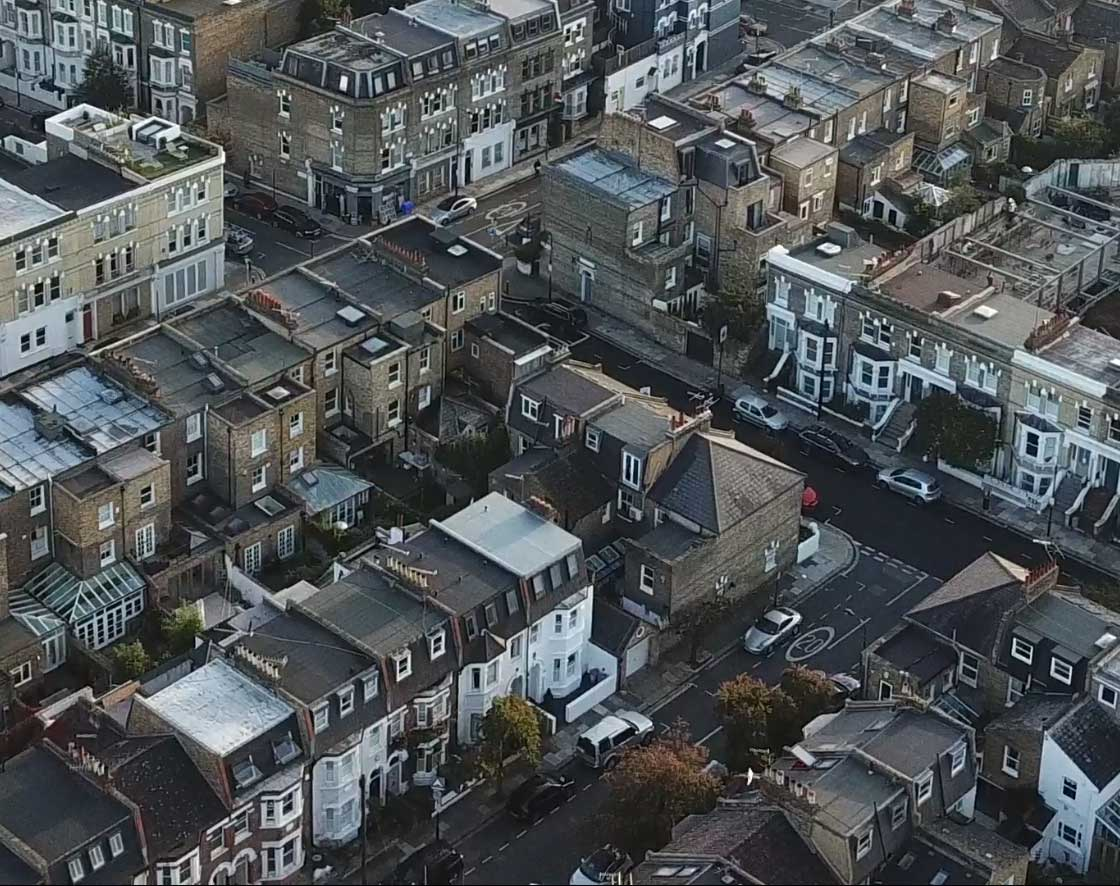car: (563, 712, 674, 765), (873, 456, 953, 516), (502, 767, 579, 826), (728, 385, 791, 443), (739, 608, 808, 660)
tree: (717, 672, 830, 753), (483, 692, 548, 764)
